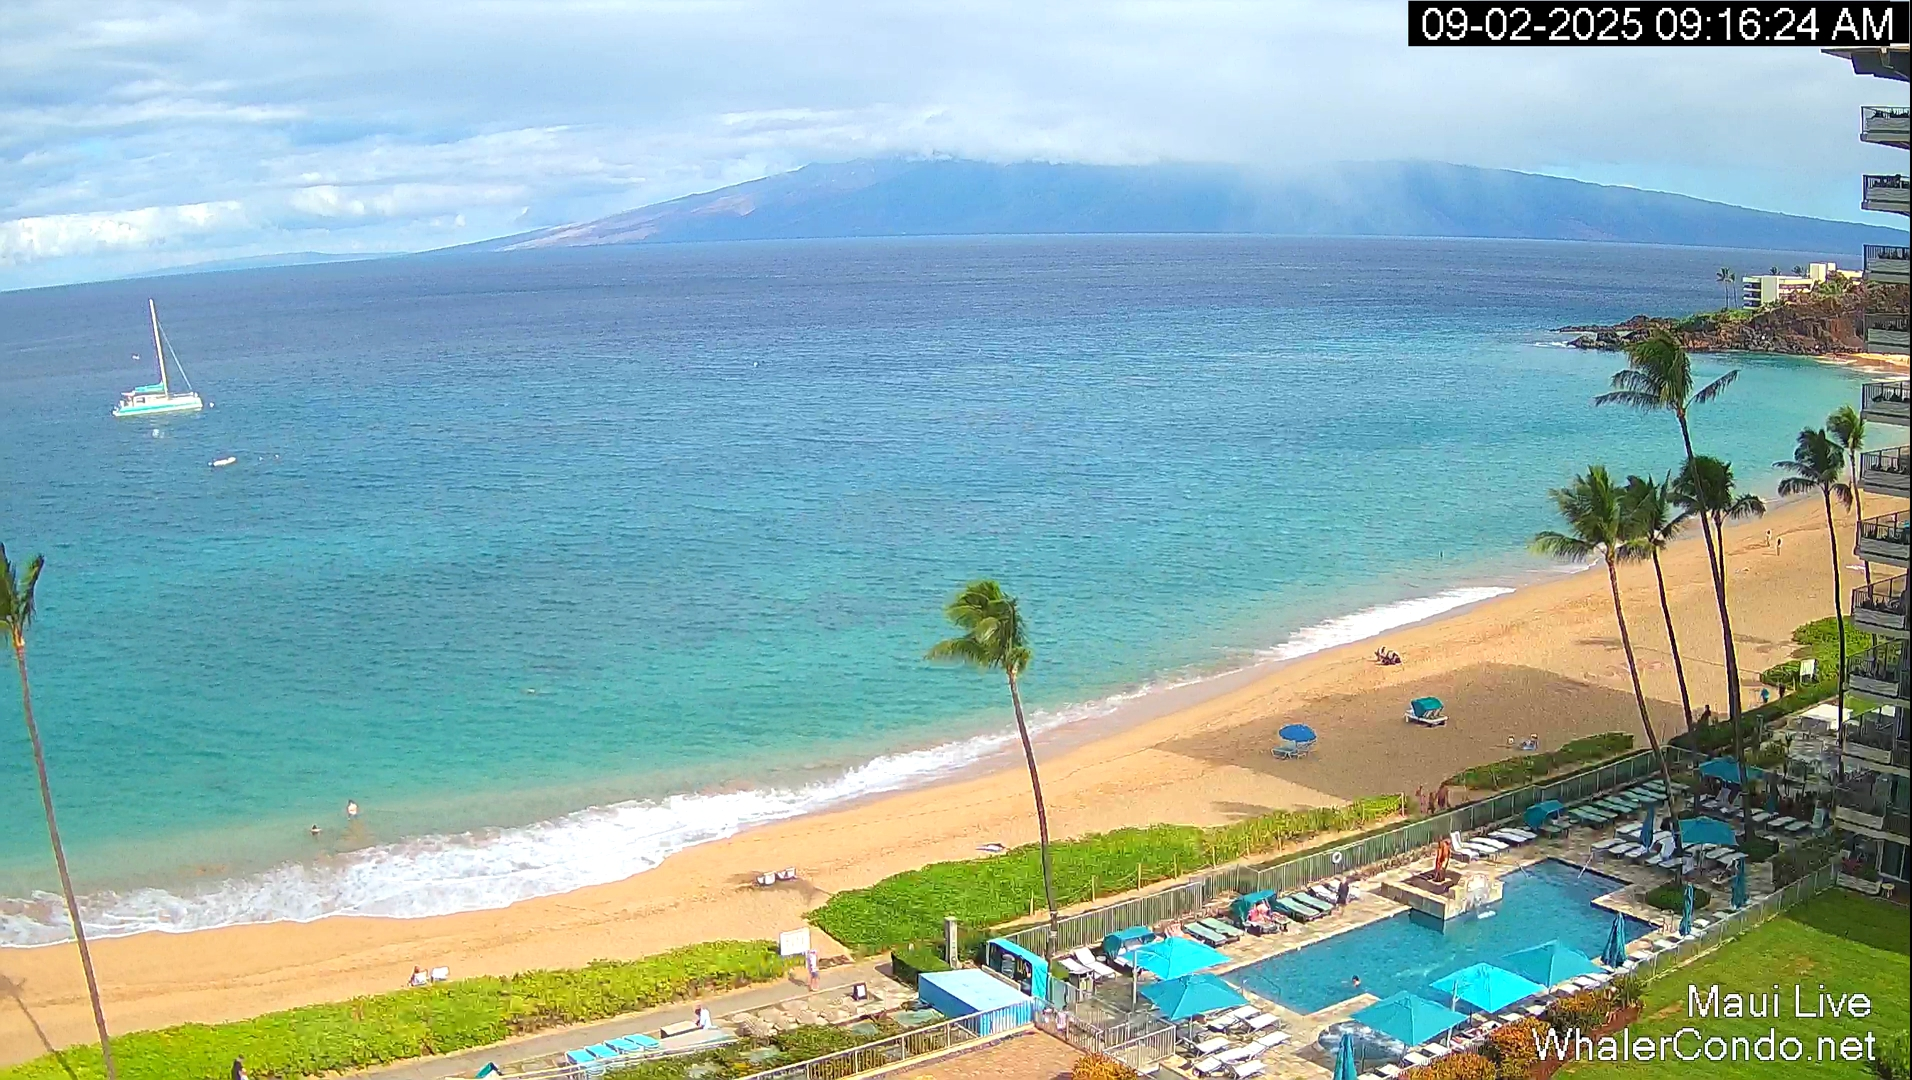boat: (111, 298, 204, 418), (475, 1033, 640, 1080)
person: (944, 580, 1028, 640), (805, 949, 820, 991), (693, 1002, 713, 1030), (407, 965, 428, 987), (1336, 877, 1349, 907), (1437, 783, 1449, 810), (1699, 704, 1712, 723), (1428, 792, 1436, 814), (1352, 975, 1361, 988), (1776, 537, 1782, 556)
